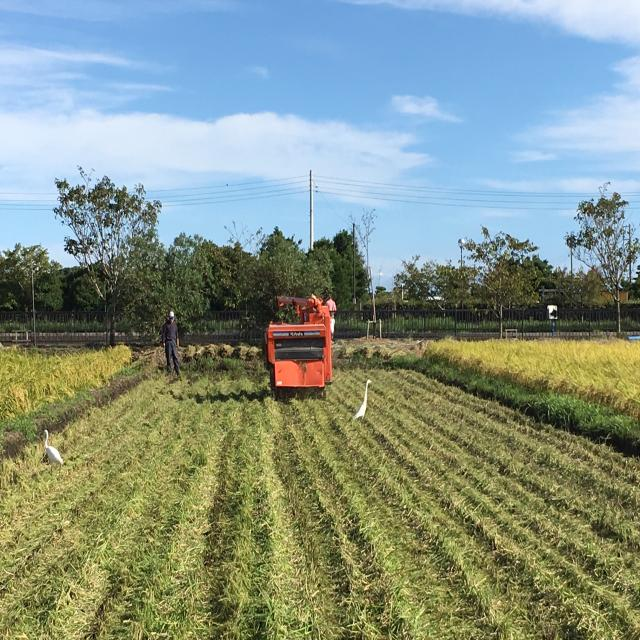bird: (349, 378, 374, 427), (34, 429, 62, 464)
